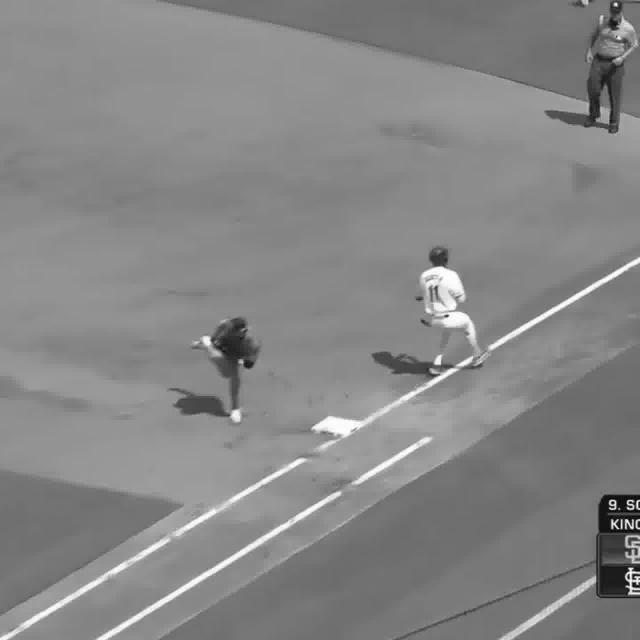base: (309, 417, 362, 436)
shoe: (471, 347, 495, 367), (424, 366, 444, 375), (230, 411, 240, 424)
